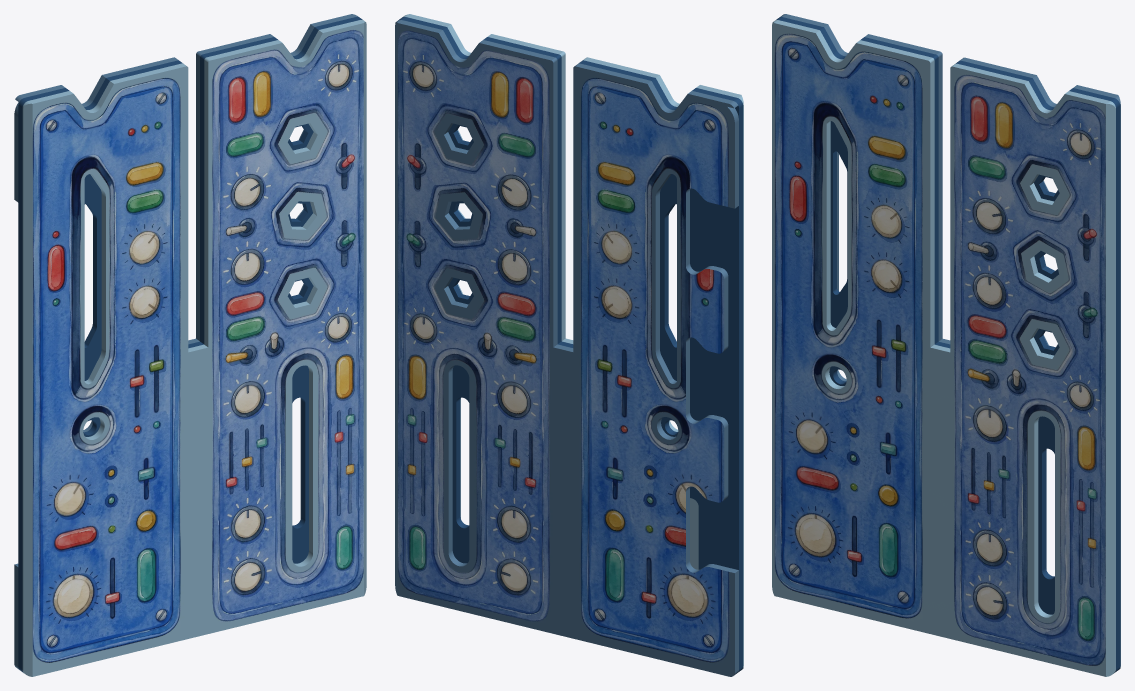
The model's file is narrow-1-bottom-linked.glb.
The picture shows the model from 3 angles, left to right: view 1: azimuth 30°, elevation 25°; view 2: azimuth 150°, elevation 25°; view 3: azimuth 330°, elevation 25°; orthographic projection.
Visible parts, largest first — view 1: narrow-1-bottom-linked; view 2: narrow-1-bottom-linked; view 3: narrow-1-bottom-linked.
Boxes of the visible parts, x1,y1,x2,y2 form: narrow-1-bottom-linked: (14,14,366,676); narrow-1-bottom-linked: (395,14,743,676); narrow-1-bottom-linked: (772,14,1120,676).
Size of the model in its own units: 580 by 925 by 36.
Materials: 5 (2 with a texture image).
